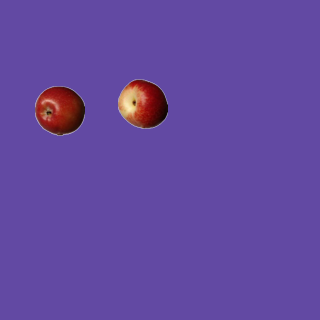Apple Braeburn: (34, 85, 84, 135)
Nectarine: (117, 78, 167, 128)
